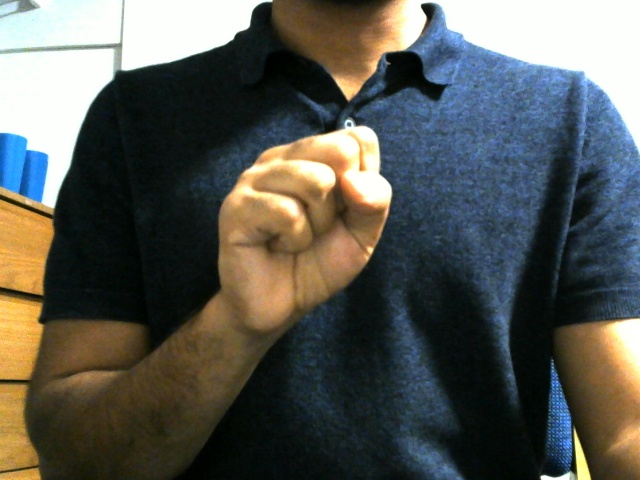S: (223, 122, 391, 326)
